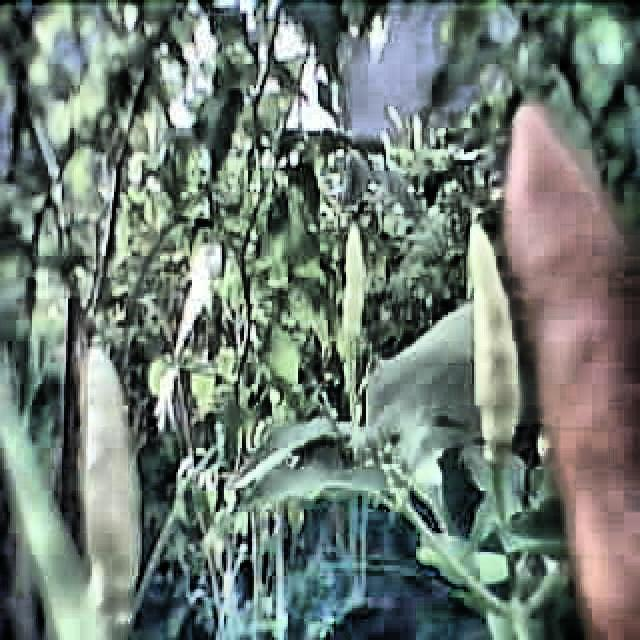Cabai: (508, 112, 638, 640), (55, 335, 210, 589), (456, 218, 506, 492), (324, 219, 395, 353)
